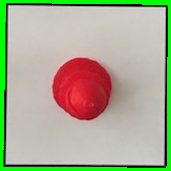Red Bishop: (49, 54, 115, 125)
